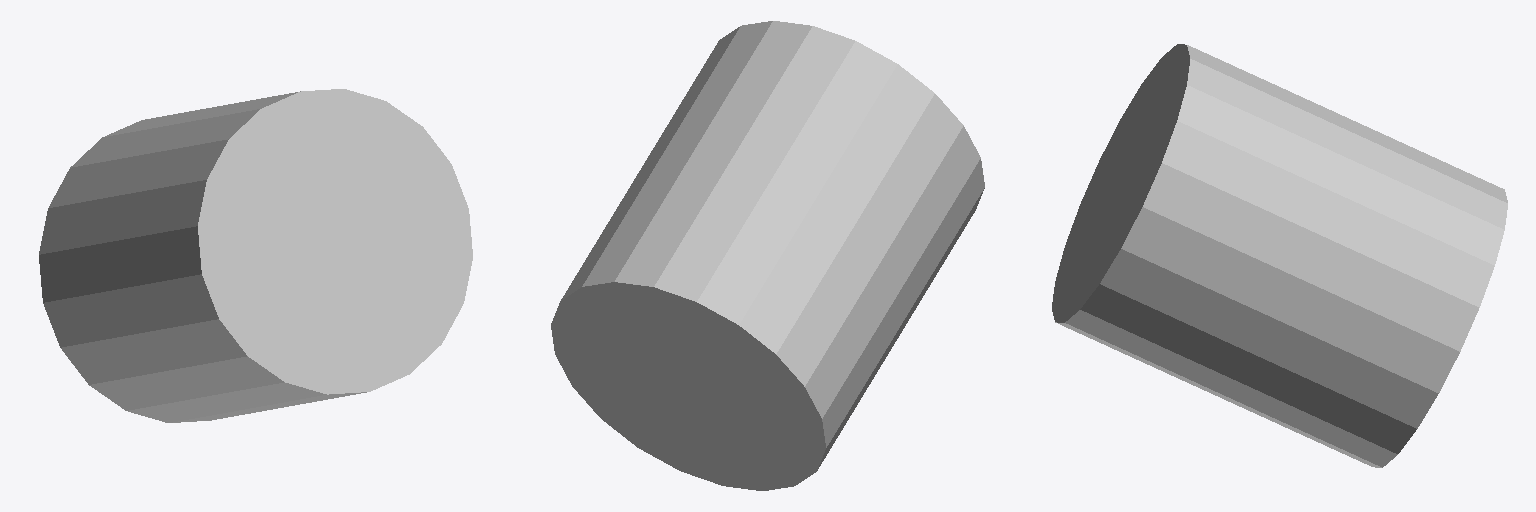
File: Resaltado_Supratroclear_I.obj
3 renders of one model, left to right at view 1: azimuth 30°, elevation 25°; view 2: azimuth 150°, elevation 25°; view 3: azimuth 270°, elevation 25°, orthographic.
Visible parts, largest first — view 1: polySurface6 Marcadores1; view 2: polySurface6 Marcadores1; view 3: polySurface6 Marcadores1.
Part boxes in pixels (x1,y1,x2,y2): polySurface6 Marcadores1: (39,89,472,422); polySurface6 Marcadores1: (551,21,984,490); polySurface6 Marcadores1: (1052,44,1507,467).
Bounding box in the file's own units: 0.0274 × 0.0387 × 0.0406.